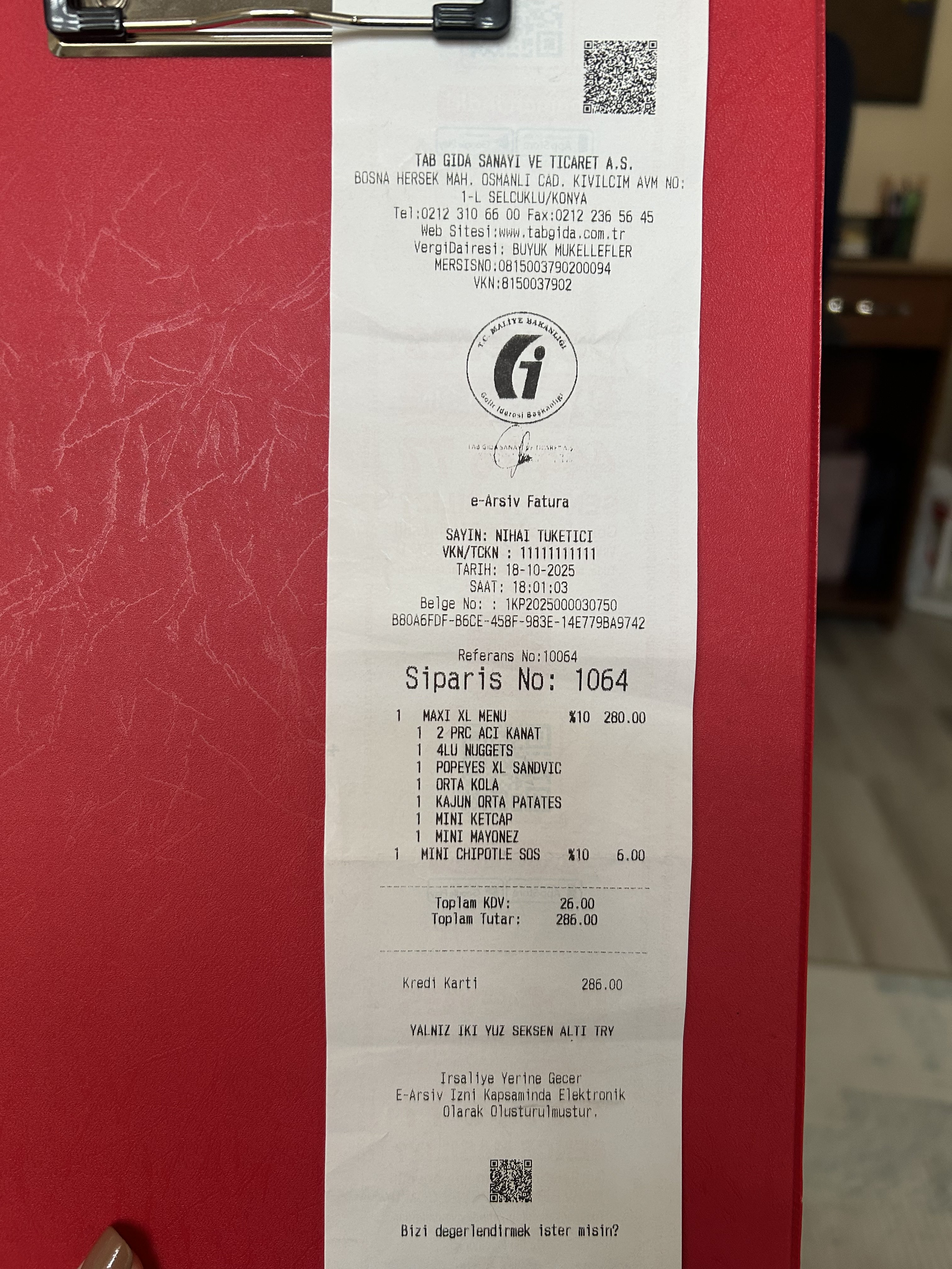date: (502, 561, 581, 579)
price: (550, 909, 606, 931)
workplace: (351, 150, 693, 206)
